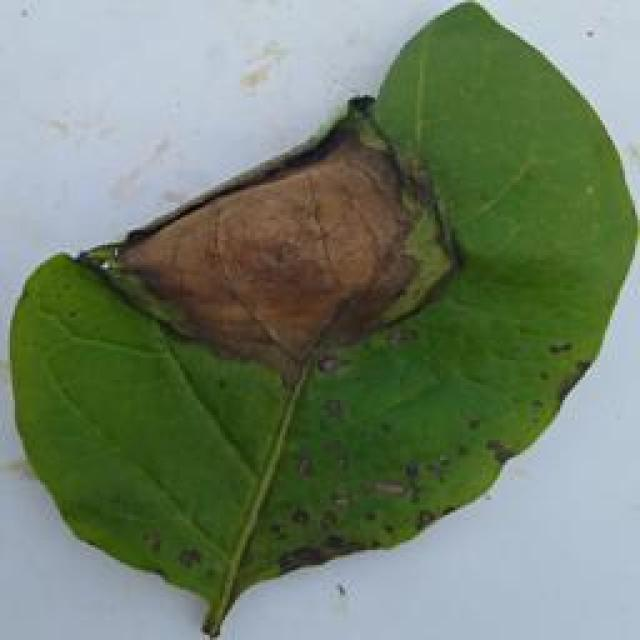Potato_Late_Blight: (2, 8, 629, 632)
